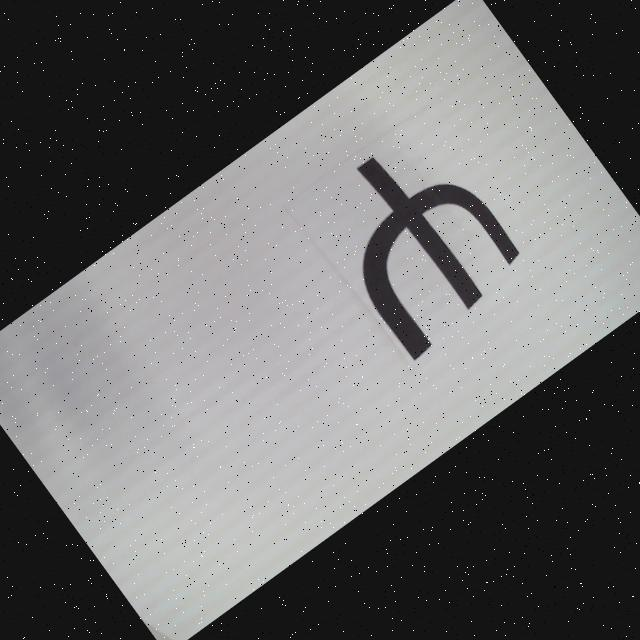PSI: (301, 117, 535, 360)
